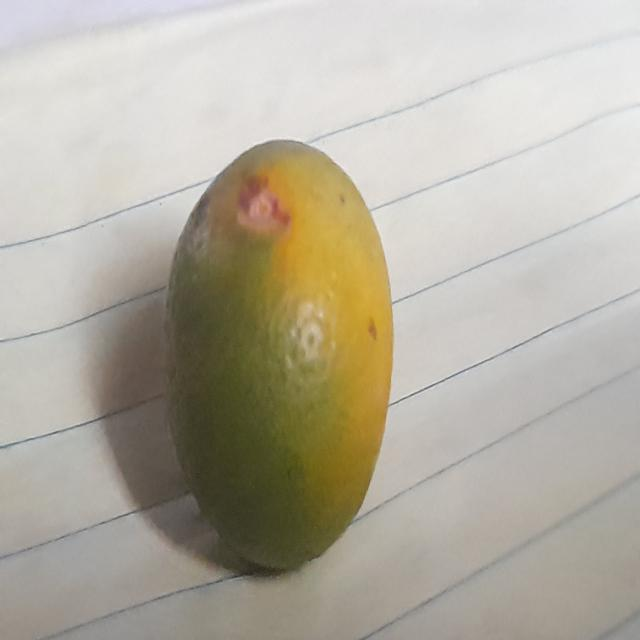greening: (161, 138, 396, 571)
